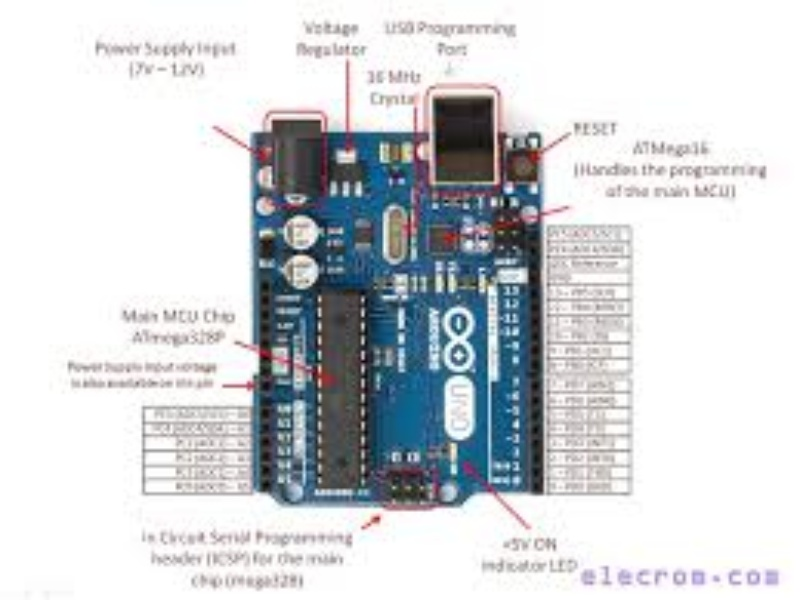uno: (214, 76, 598, 528)
